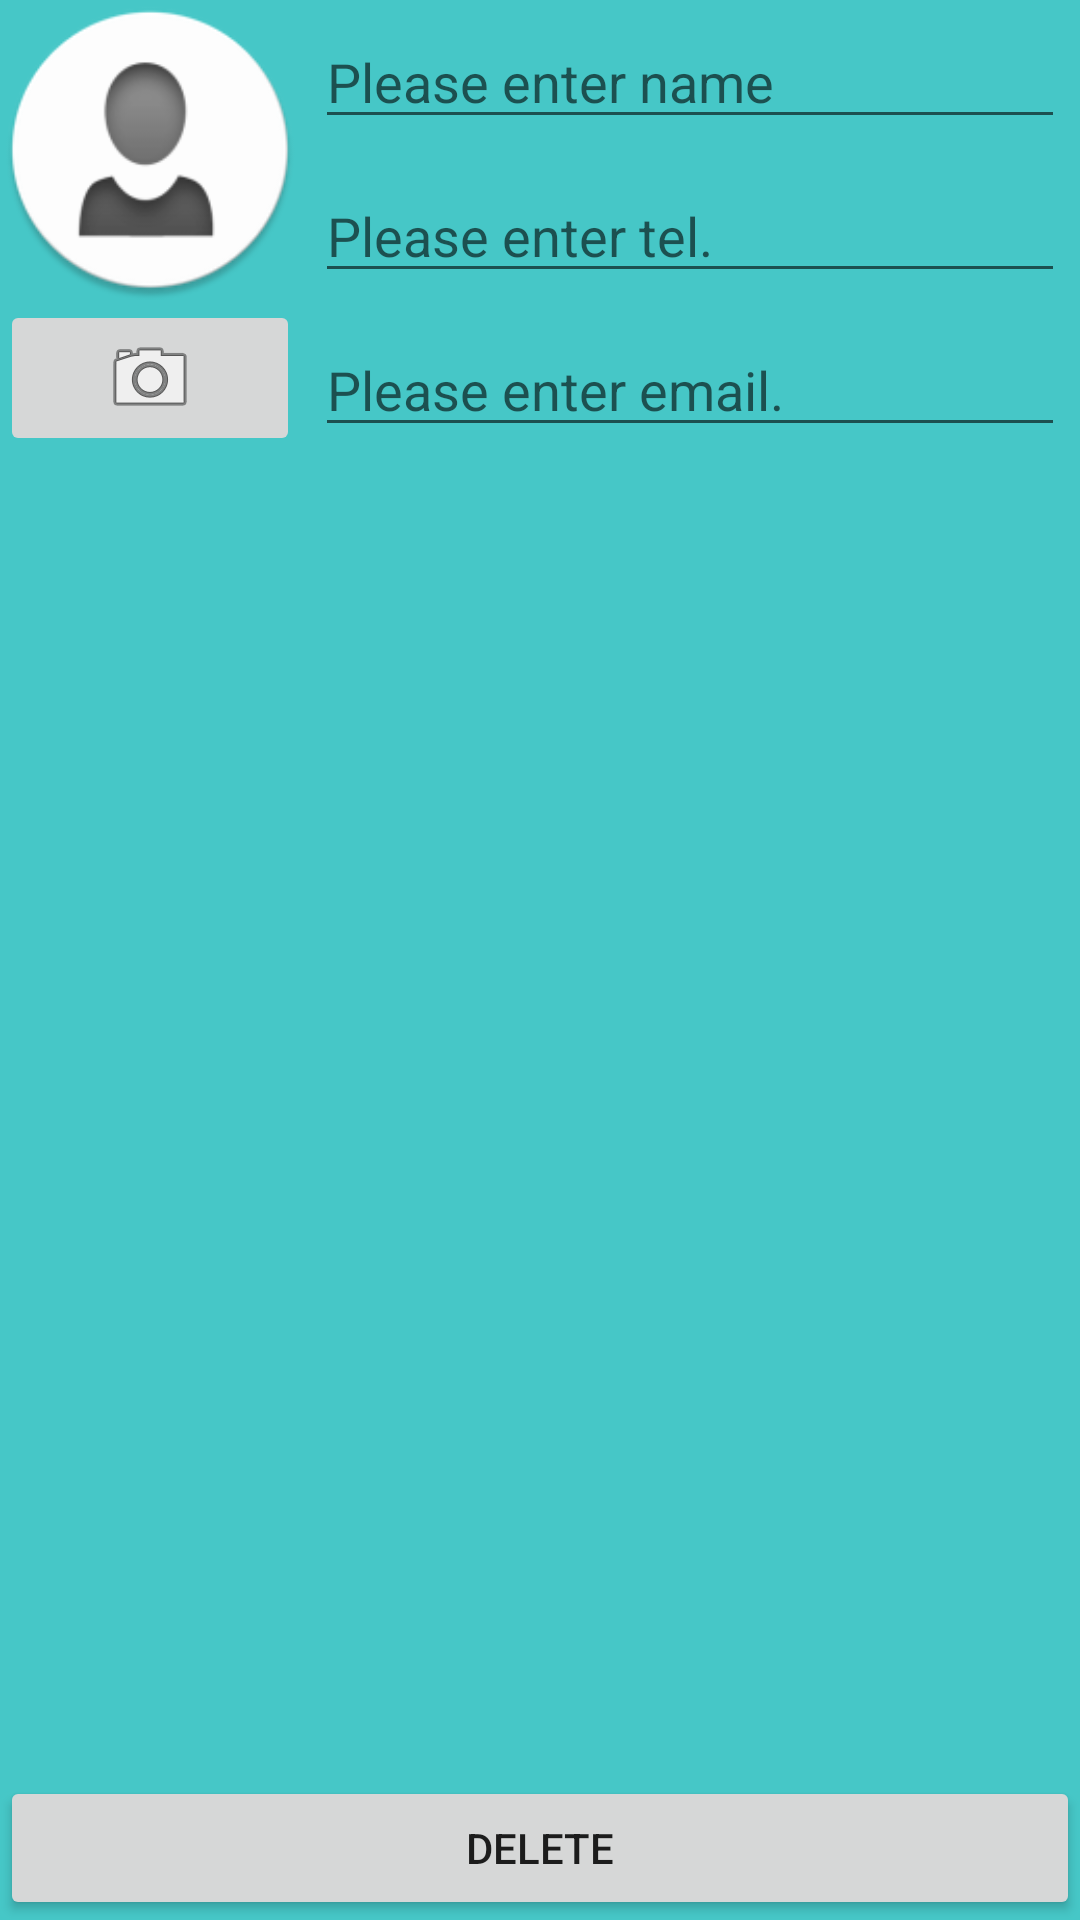

Icons on this 1080w x 1920h Android screen, each with its box as [x1, y1, x2, y2]:
camera: [12, 318, 288, 438]
